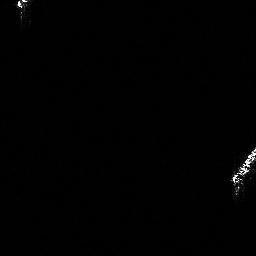ship: (230, 141, 256, 195), (15, 1, 34, 16)
